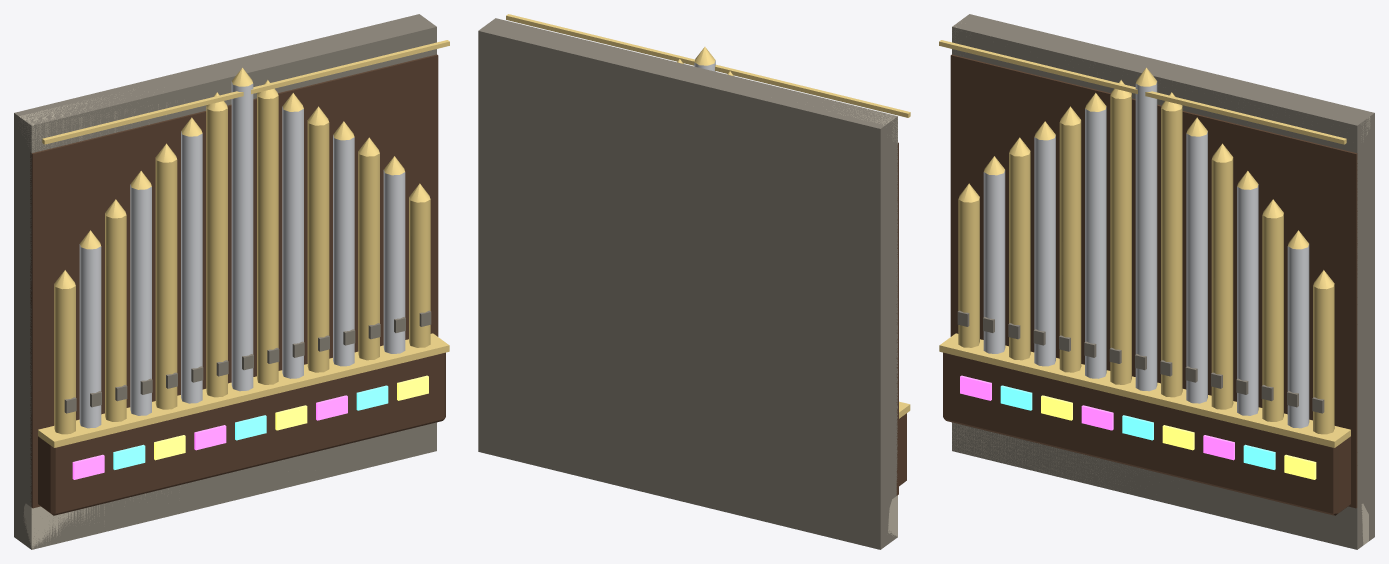
The model's file is wall_bb_organ.glb.
3 renders of one model, left to right at view 1: azimuth 30°, elevation 25°; view 2: azimuth 150°, elevation 25°; view 3: azimuth 330°, elevation 25°, orthographic.
Visible parts, largest first — view 1: wall_bb_organ; view 2: wall_bb_organ; view 3: wall_bb_organ.
Boxes of the visible parts, x1,y1,x2,y2 form: wall_bb_organ: [14, 14, 449, 549]; wall_bb_organ: [478, 14, 910, 549]; wall_bb_organ: [939, 14, 1374, 549].
Bounding box in the file's own units: 4 × 4.14 × 0.6.
